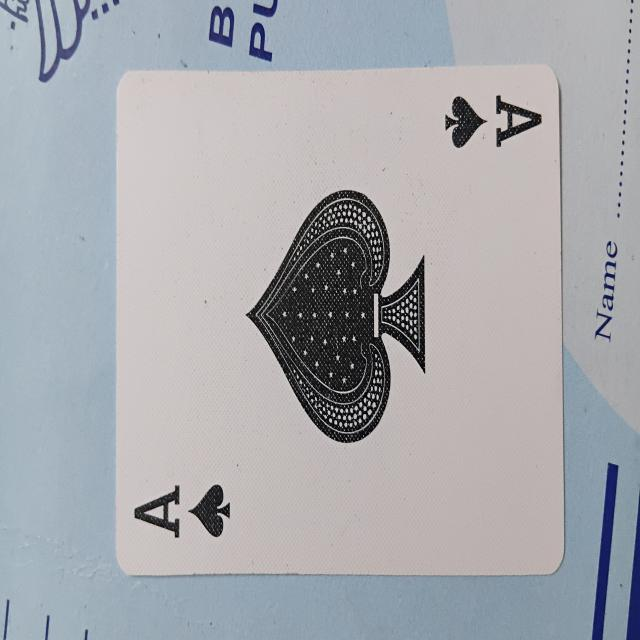AS: (116, 67, 565, 573)
